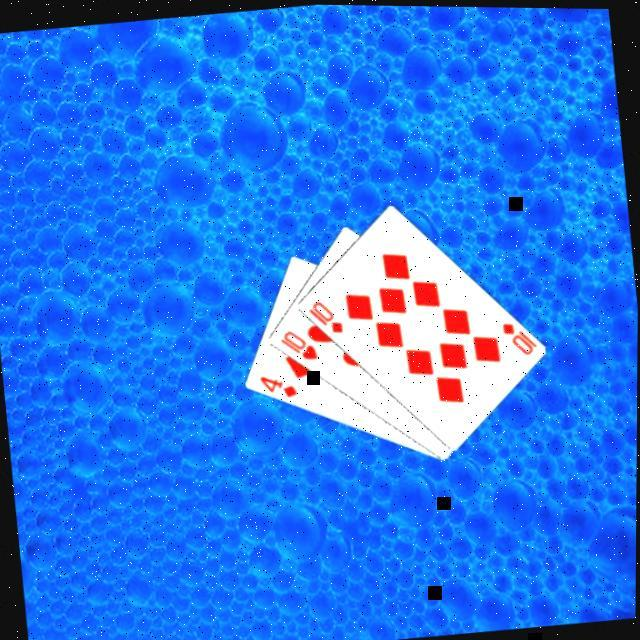10D: (495, 312, 538, 356), (302, 293, 344, 336)
10H: (273, 322, 319, 364)
4D: (253, 366, 298, 401)
